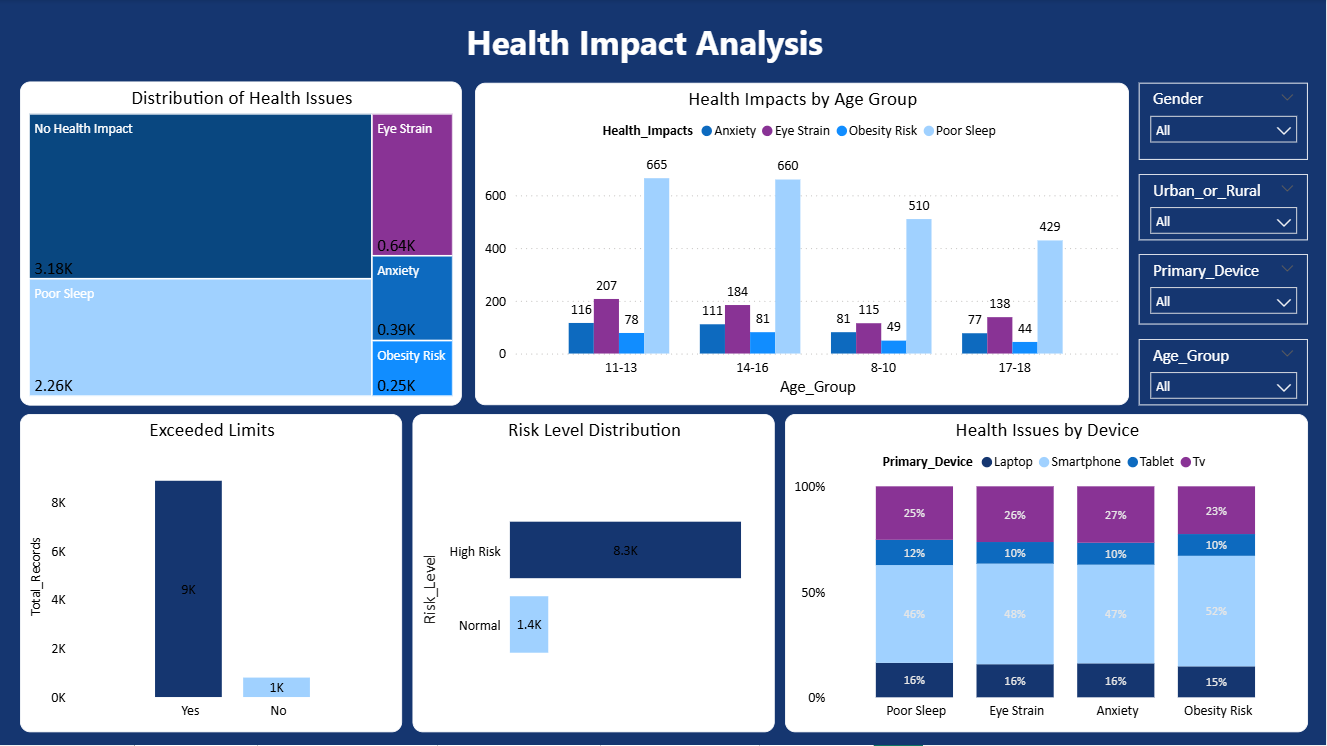

The page's visual inventory and layout, read from the dashboard file:
{"tool":"powerbi","page":{"name":"HEALTH IMPACT","canvas":[1280,720],"ordinal":2},"visuals":[{"type":"textbox","box":[372.6,14,498.7,65.8],"z":0},{"type":"slicer","fields":{"Values":["Sheet1.Gender"]},"box":[1099,80.4,163.4,74],"z":1000},{"type":"slicer","fields":{"Values":["Sheet1.Urban_or_Rural"]},"box":[1099,168.5,163.4,63.8],"z":2000},{"type":"slicer","fields":{"Values":["Sheet1.Age_Group"]},"box":[1099,328,163.4,63.8],"z":3000},{"type":"slicer","fields":{"Values":["Sheet1.Primary_Device"]},"box":[1099,246.4,163.4,67.7],"z":4000},{"type":"hundredPercentStackedColumnChart","title":"Health Issues by Device","fields":{"Category":["Sheet1.Health_Impacts"],"Series":["Sheet1.Primary_Device"],"Y":["Sheet1.Total_Records"]},"box":[757.5,400.7,505,307.4],"z":5000},{"type":"clusteredColumnChart","title":"Exceeded Limits","fields":{"Category":["Sheet1.Exceeded_Limit"],"Y":["Sheet1.Total_Records"]},"box":[19.2,400.7,369.1,307.4],"z":7000},{"type":"barChart","title":"Risk Level Distribution","fields":{"Category":["Sheet1.Risk_Level"],"Y":["Sheet1.Total_Records"]},"box":[397.9,400.7,349.9,307.4],"z":9000},{"type":"treemap","title":"Distribution of Health Issues","fields":{"Group":["Sheet1.Health_Impacts"],"Values":["CountNonNull(Sheet1.Health_Impacts)"]},"box":[19.2,79.6,426.8,312.9],"z":9001},{"type":"clusteredColumnChart","title":"Health Impacts by Age Group","fields":{"Category":["Sheet1.Age_Group"],"Y":["CountNonNull(Sheet1.Health_Impacts)"],"Series":["Sheet1.Health_Impacts"]},"box":[458.3,81,631.2,311.5],"z":9002}]}

Visuals, with their boxes in screenshot pixels (x1, y1, x2, y2), scaled from the page's 1280x720 canvas onto the 1327x746 screenshot:
textbox: <bbox>386, 15, 903, 83</bbox>
slicer - Sheet1.Gender: <bbox>1139, 83, 1309, 160</bbox>
slicer - Sheet1.Urban_or_Rural: <bbox>1139, 175, 1309, 241</bbox>
slicer - Sheet1.Age_Group: <bbox>1139, 340, 1309, 406</bbox>
slicer - Sheet1.Primary_Device: <bbox>1139, 255, 1309, 325</bbox>
"Health Issues by Device" hundredPercentStackedColumnChart: <bbox>785, 415, 1309, 734</bbox>
"Exceeded Limits" clusteredColumnChart: <bbox>20, 415, 403, 734</bbox>
"Risk Level Distribution" barChart: <bbox>413, 415, 775, 734</bbox>
"Distribution of Health Issues" treemap: <bbox>20, 82, 462, 407</bbox>
"Health Impacts by Age Group" clusteredColumnChart: <bbox>475, 84, 1130, 407</bbox>
